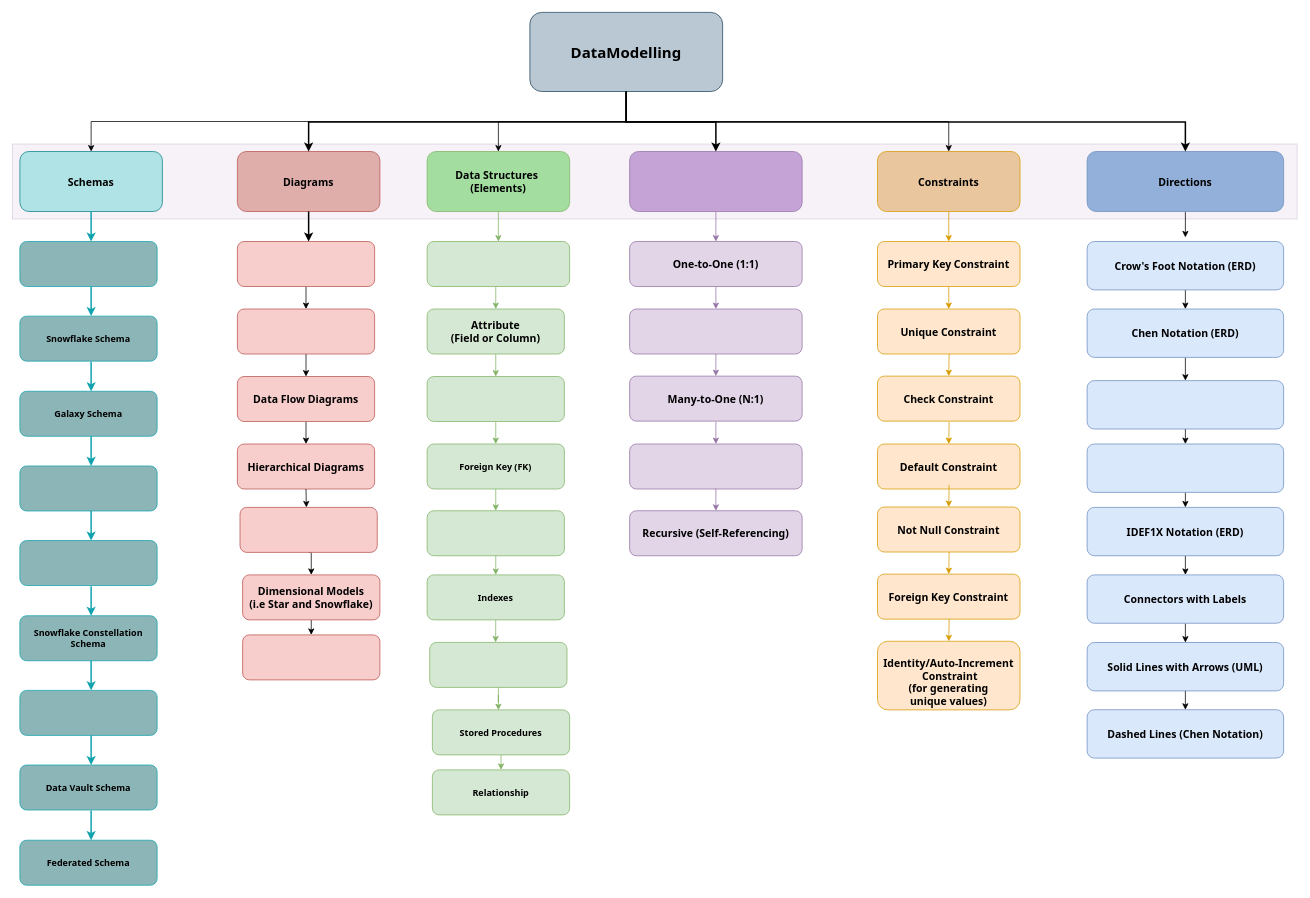
Some shapes in this 1310 by 898 pixel diagram are drawn without their labels. Here are the shapes that lost their labels. From the top down, the centre of each, then its label:
(715,181): Relationships
(88,263): Star Schema
(306,263): Entity-Relationship Diagrams (ERDs)
(498,263): Entity (Table)
(306,331): UML Class Diagrams
(715,331): One-to-Many (1:N)
(495,399): Primary Key (PK)
(1185,404): UML Notation (Class Diagram)
(715,466): Many-to-Many (N:N)
(1185,467): Barker Notation (ERD)
(88,488): Fact Constellation Schema
(308,529): Semantic Data Models
(495,533): Associative Entity (for N-to-N relationships)
(88,563): Bridge Table Schema
(311,657): Conceptual, Logical, and Physical Data Models
(498,664): Views
(88,712): Hierarchy-Based Schema
